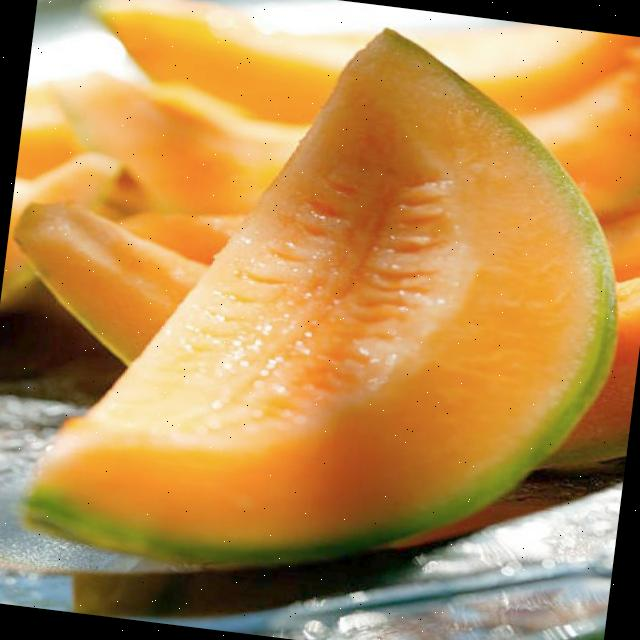Hami Melon: (15, 0, 640, 606)
